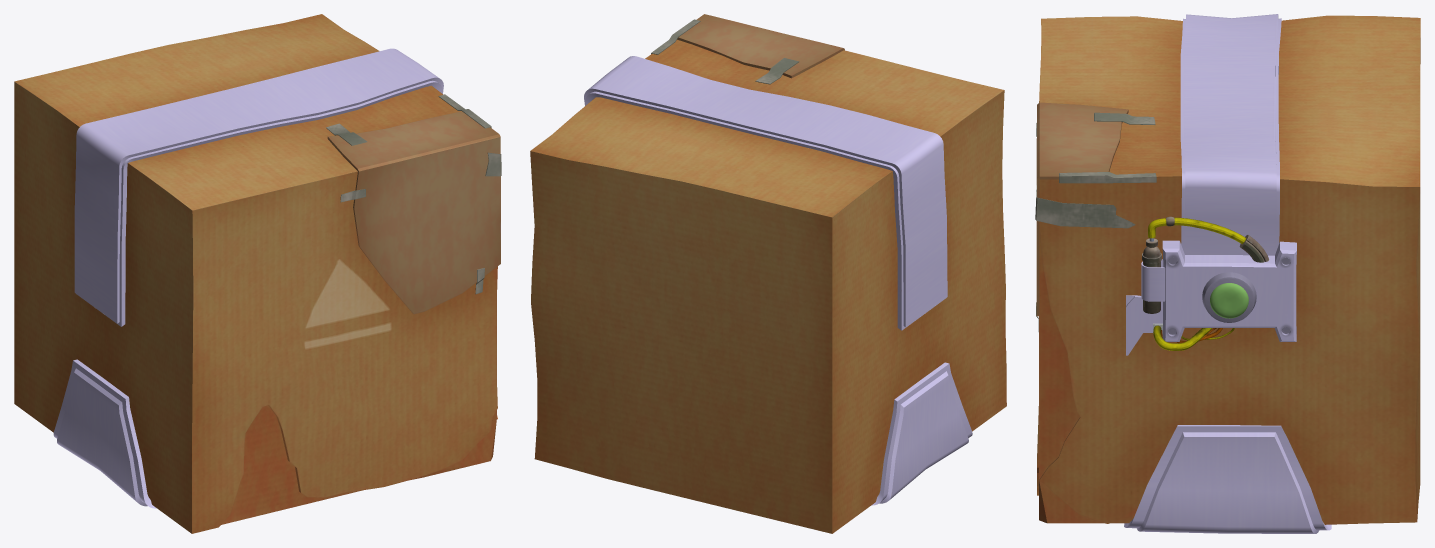
The picture shows the model from 3 angles, left to right: view 1: azimuth 30°, elevation 25°; view 2: azimuth 150°, elevation 25°; view 3: azimuth 270°, elevation 25°; orthographic projection. The views are drawn at different scales.
Parts seen in each view (by area): view 1: Cube.013; view 2: Cube.013; view 3: Cube.013.
Part boxes in pixels (left/top/right/bottom): Cube.013: left=14, top=14, right=501, bottom=533; Cube.013: left=530, top=14, right=1006, bottom=533; Cube.013: left=1035, top=14, right=1420, bottom=533.
Size of the model in its own units: 0.8055 by 0.742 by 0.7114.
Materials: 1 (1 with a texture image).
